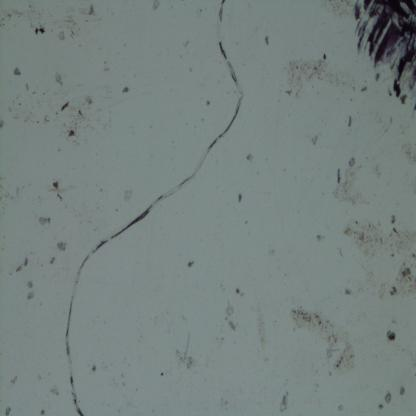Background material: (0, 65, 132, 141), (344, 218, 416, 299), (288, 302, 356, 376), (0, 2, 101, 41), (279, 51, 347, 103), (330, 158, 372, 209), (172, 333, 198, 370), (48, 177, 67, 204), (394, 143, 416, 164), (225, 304, 237, 332), (15, 256, 29, 275), (278, 390, 289, 413), (38, 213, 53, 228), (243, 152, 255, 166), (387, 326, 396, 344), (123, 189, 134, 203), (50, 383, 60, 397), (312, 233, 325, 243), (25, 289, 34, 303), (56, 242, 68, 252), (89, 362, 97, 376), (234, 287, 244, 298), (13, 66, 22, 78), (384, 393, 393, 404), (312, 134, 319, 148), (152, 1, 160, 13), (4, 404, 12, 416), (347, 114, 353, 129), (11, 376, 18, 388), (48, 255, 56, 265), (264, 34, 270, 46), (187, 260, 196, 268), (38, 408, 46, 416), (26, 280, 33, 289), (378, 401, 384, 411), (238, 193, 244, 203), (399, 386, 405, 395)
Cotton: (62, 0, 244, 416)
Pen: (352, 1, 416, 106)
